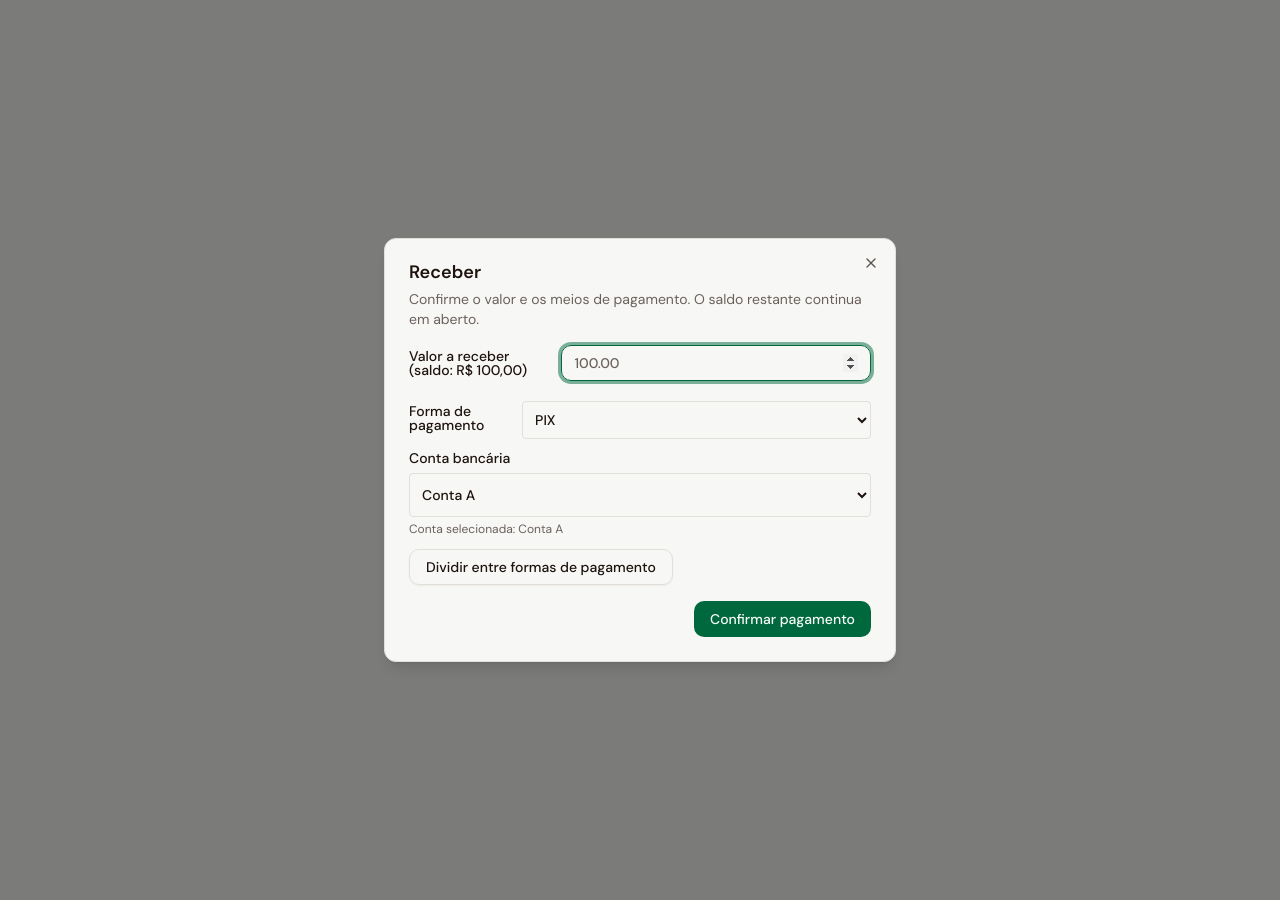
Test: Controles de pagamento da Sprint 3 › divide PIX 40 e dinheiro 70, mostra troco 10 e preserva o formulário em falha
Click the button "Dividir entre formas de pagamento" at (541, 567), box [409, 549, 673, 585]
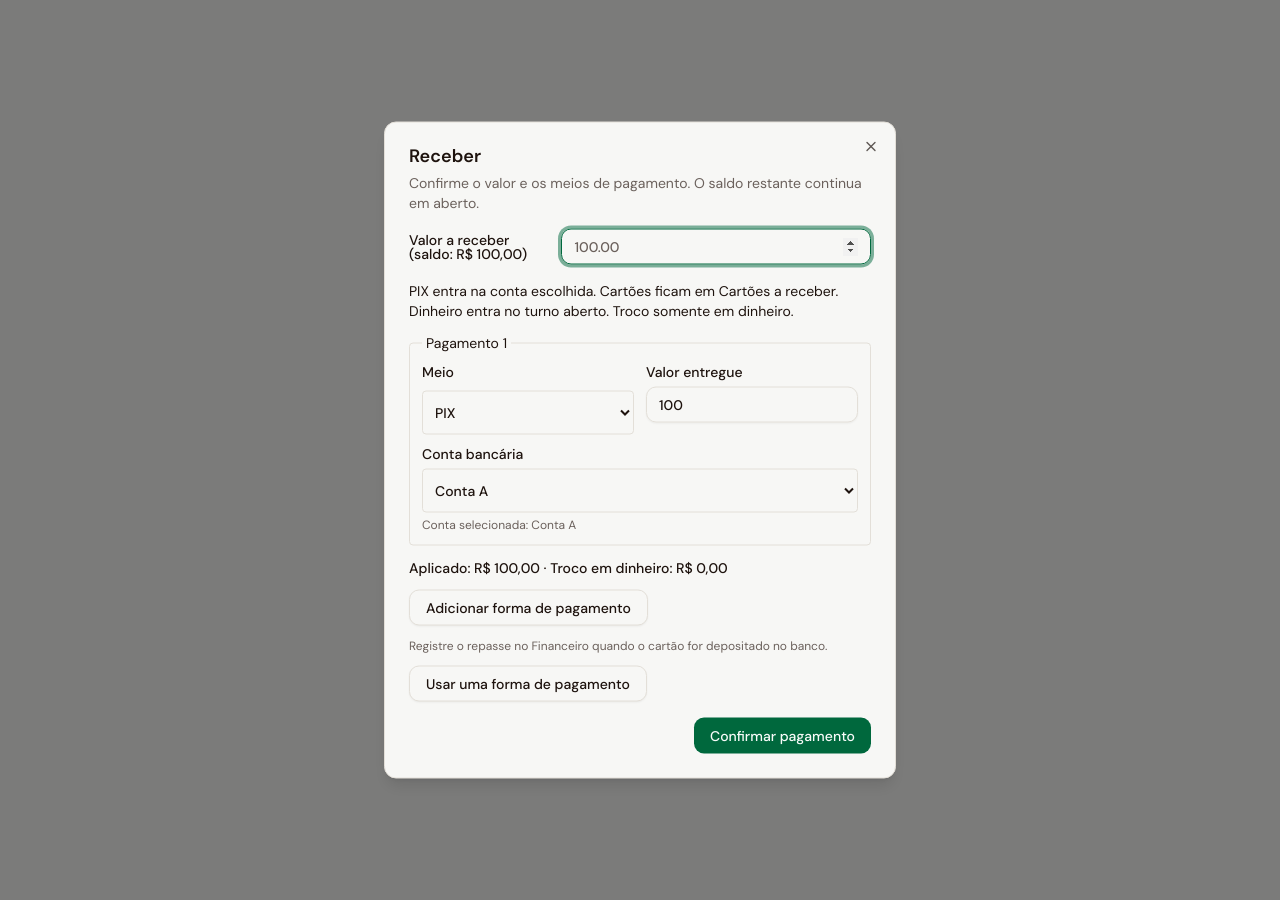
Replace the text in the number field named "Valor do pagamento 1" with "40" at (752, 404), box [646, 386, 858, 422]
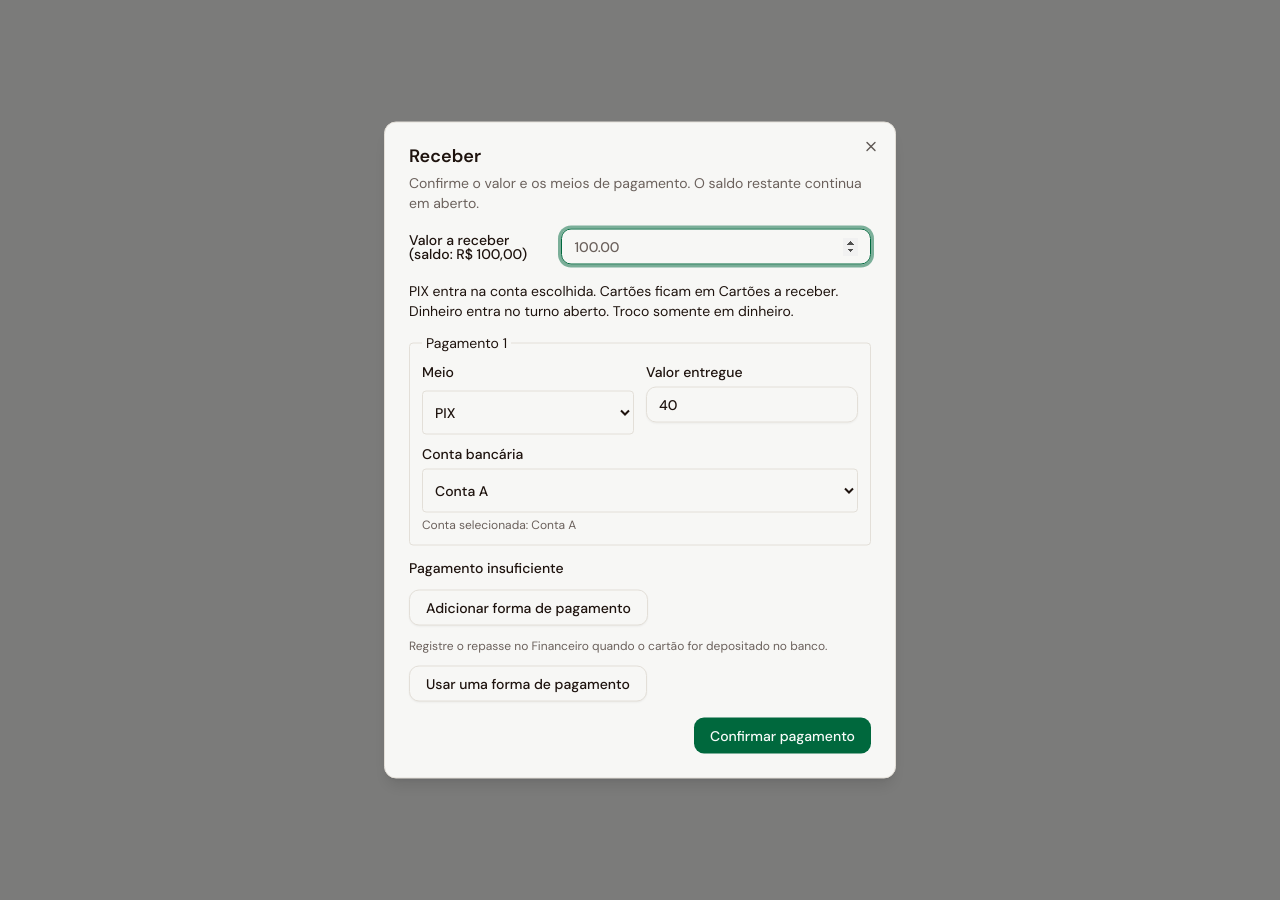
Click the button "Adicionar forma de pagamento" at (528, 608), box [409, 590, 648, 626]
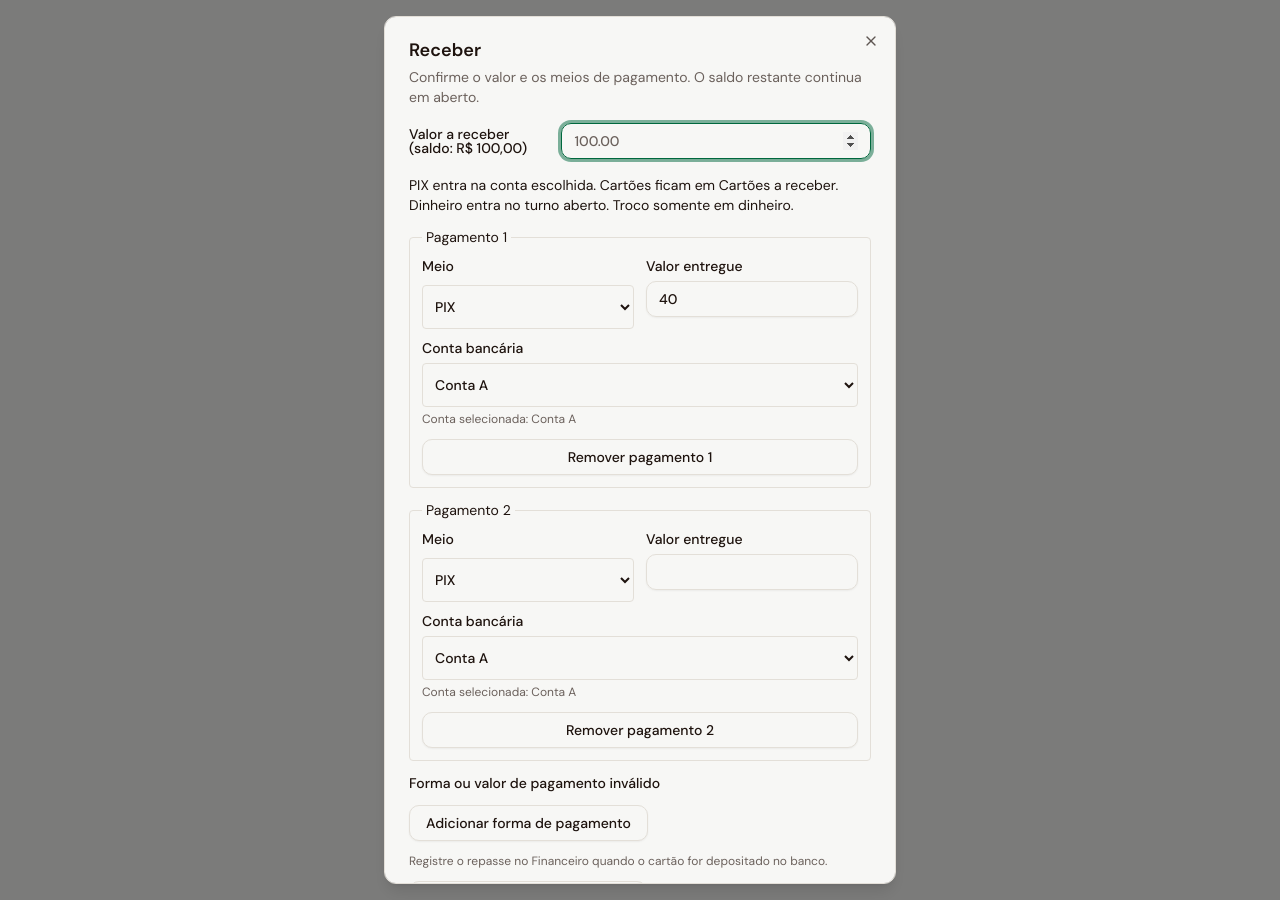
Select "Dinheiro" in the dropdown named "Meio do pagamento 2" at (528, 580), box [422, 558, 634, 602]
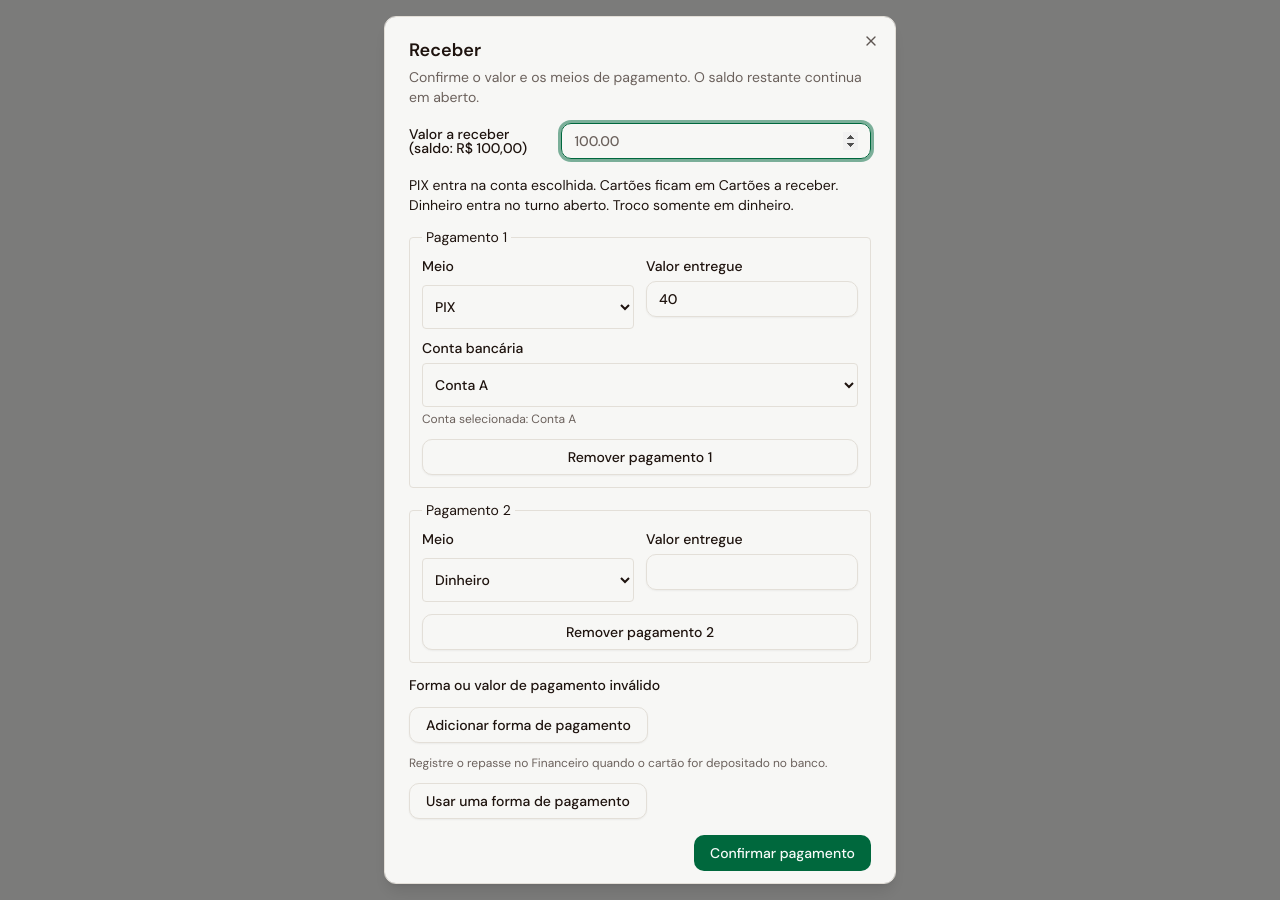
Type "70" into the number field named "Valor do pagamento 2" at (752, 572), box [646, 554, 858, 590]
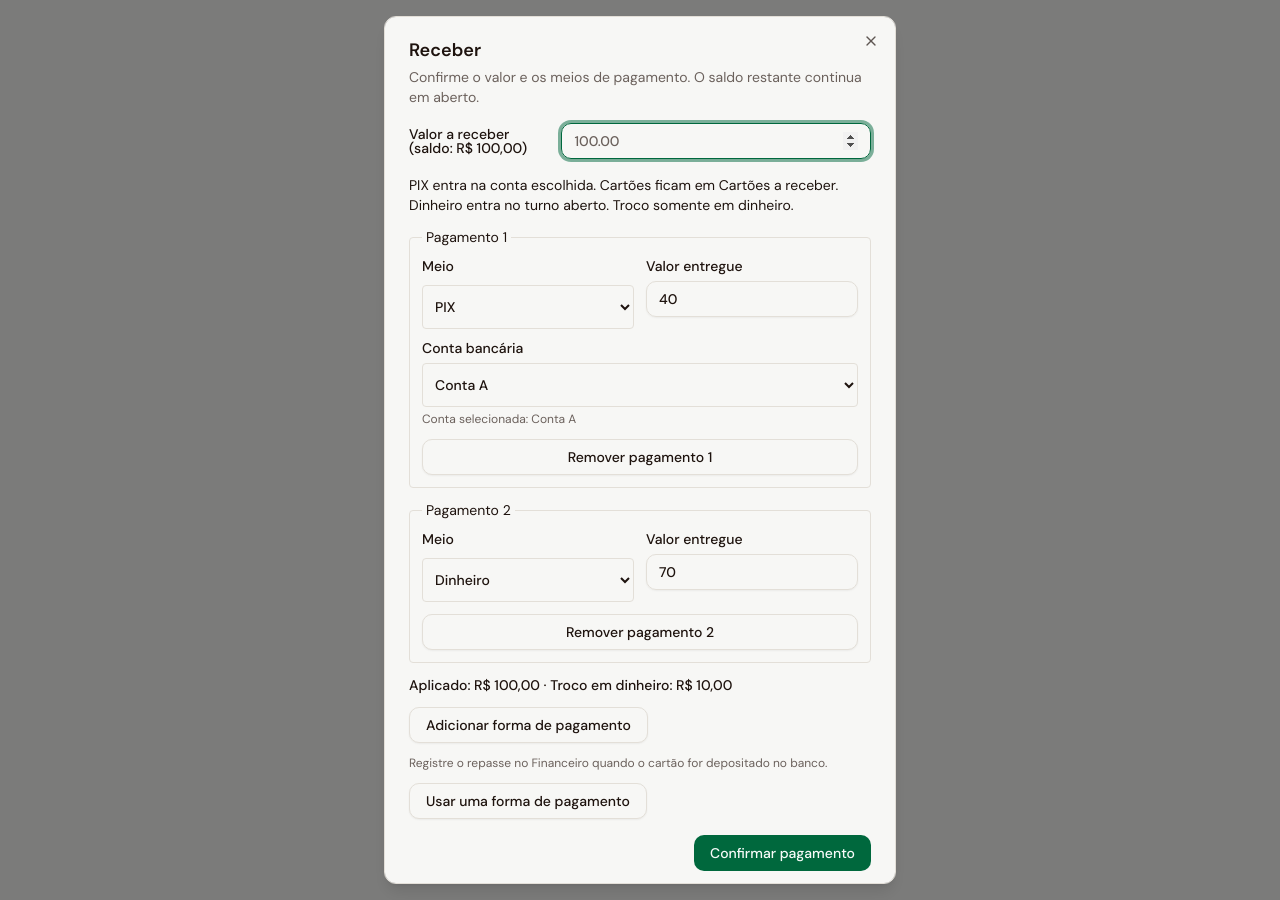
Expected: the message reads "Aplicado: R$ 100,00 · Troco em dinheiro: R$ 10,00", [409, 676, 732, 694]
Click the button "Confirmar pagamento" at (782, 853), box [694, 835, 871, 871]
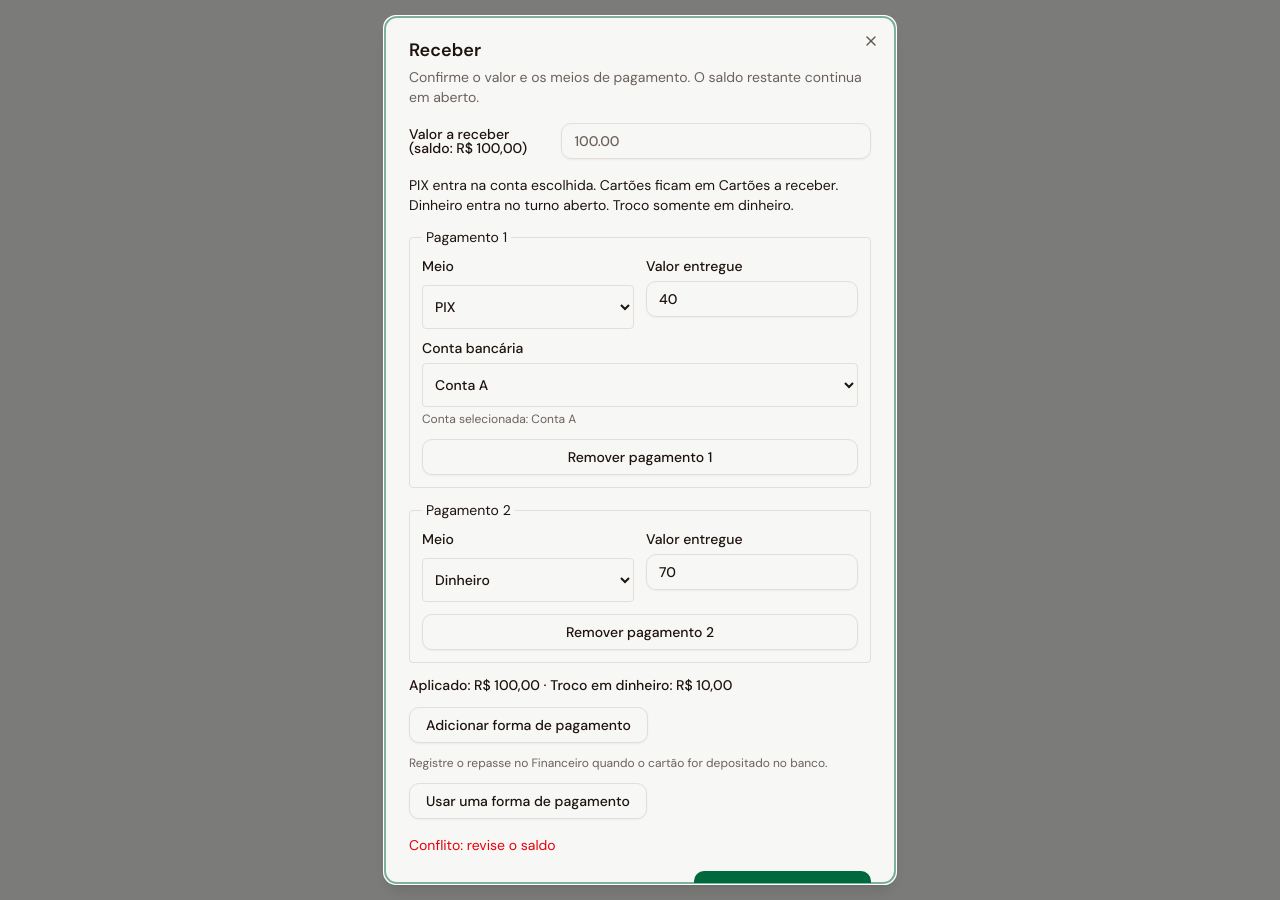
Expected: the message "Conflito: revise o saldo" is shown, [409, 836, 556, 854]
